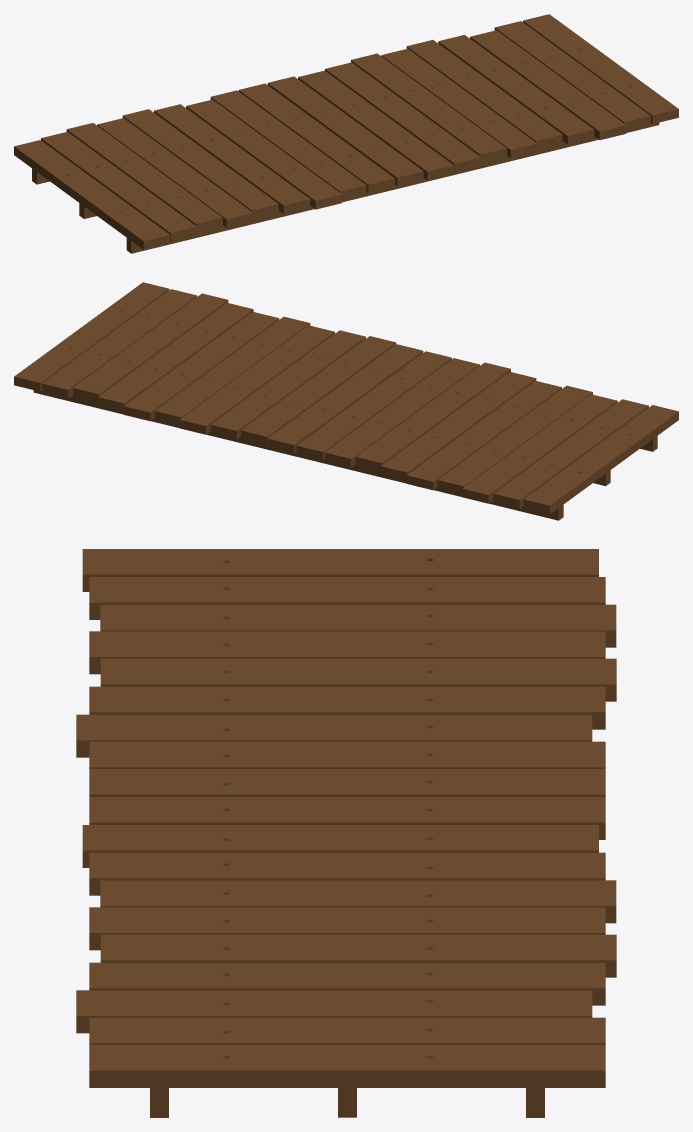
File: transparent_bridge1.2.fbx
3 renders of one model, top to bottom at view 1: azimuth 30°, elevation 25°; view 2: azimuth 150°, elevation 25°; view 3: azimuth 270°, elevation 25°, orthographic. The views are drawn at different scales.
Visible parts, largest first — view 1: pCube40, pCube14; view 2: pCube40, pCube15; view 3: pCube40.
Part boxes in pixels (bbox=[...]): pCube40: bbox=[14, 14, 678, 249]; pCube14: bbox=[126, 122, 659, 253]; pCube40: bbox=[14, 282, 678, 514]; pCube15: bbox=[33, 390, 563, 520]; pCube40: bbox=[76, 549, 616, 1117].
Size of the model in its own units: 19.43 by 0.9004 by 8.51.
